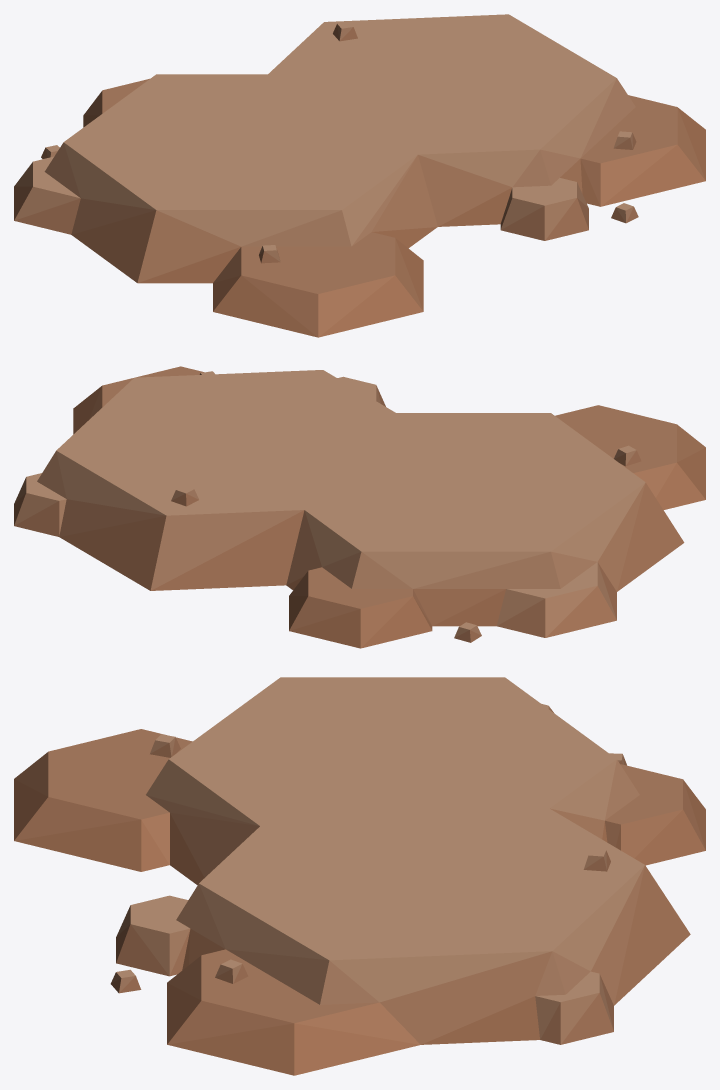
The model's file is survival_rock_flat.glb.
3 views of the same model, one above another, from view 1: azimuth 30°, elevation 25°; view 2: azimuth 150°, elevation 25°; view 3: azimuth 270°, elevation 25° (orthographic). The views are drawn at different scales.
Parts seen in each view (by area): view 1: survival_rock_flat; view 2: survival_rock_flat; view 3: survival_rock_flat.
Boxes of the visible parts, x1=… form: survival_rock_flat: x1=14, y1=14, x2=705, y2=337; survival_rock_flat: x1=14, y1=366, x2=705, y2=648; survival_rock_flat: x1=14, y1=677, x2=705, y2=1075.
Size of the model in its own units: 1.79 by 0.195 by 1.45.
